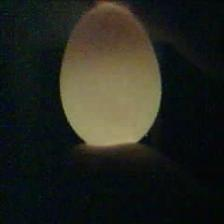infertile: (58, 1, 163, 150)
